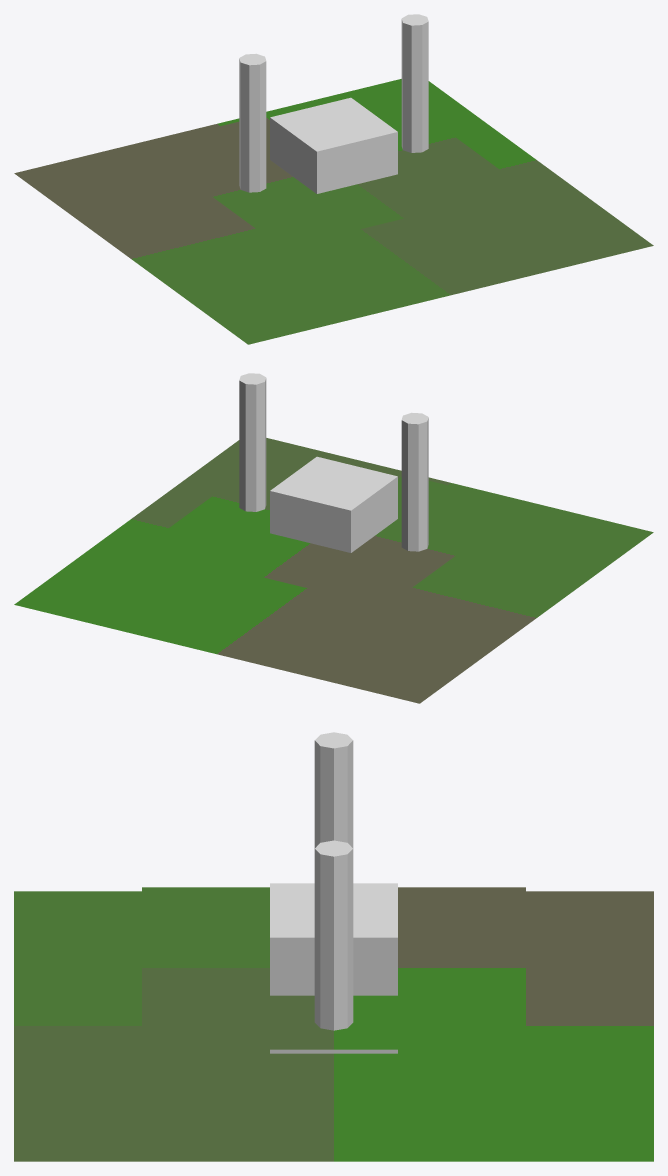
File: multi_scene_levels.out_levels_rt.glb
3 views of the same model, one above another, from view 1: azimuth 30°, elevation 25°; view 2: azimuth 150°, elevation 25°; view 3: azimuth 270°, elevation 25° (orthographic). The views are drawn at different scales.
Parts seen in each view (by area): view 1: Plane, Plane.001, Cube, ColumnA, ColumnB; view 2: Plane, Plane.001, Cube, ColumnA, ColumnB; view 3: Plane, Plane.001, Cube, ColumnA, ColumnB.
Part boxes in pixels (box(x1,y1,x2,y2)): Plane: box(14, 79, 653, 344); Plane.001: box(142, 86, 525, 248); Cube: box(270, 97, 397, 193); ColumnA: box(401, 14, 428, 152); ColumnB: box(239, 53, 266, 192); Plane: box(14, 438, 653, 703); Plane.001: box(142, 445, 525, 607); Cube: box(270, 456, 397, 552); ColumnA: box(239, 373, 266, 511); ColumnB: box(401, 412, 428, 551); Plane: box(14, 891, 653, 1161); Plane.001: box(142, 887, 525, 1049); Cube: box(270, 883, 397, 1053); ColumnA: box(314, 840, 353, 1030); ColumnB: box(314, 732, 353, 848).
Bounding box in the file's own units: 10 × 4 × 10.
Materials: 2 (1 with a texture image).
